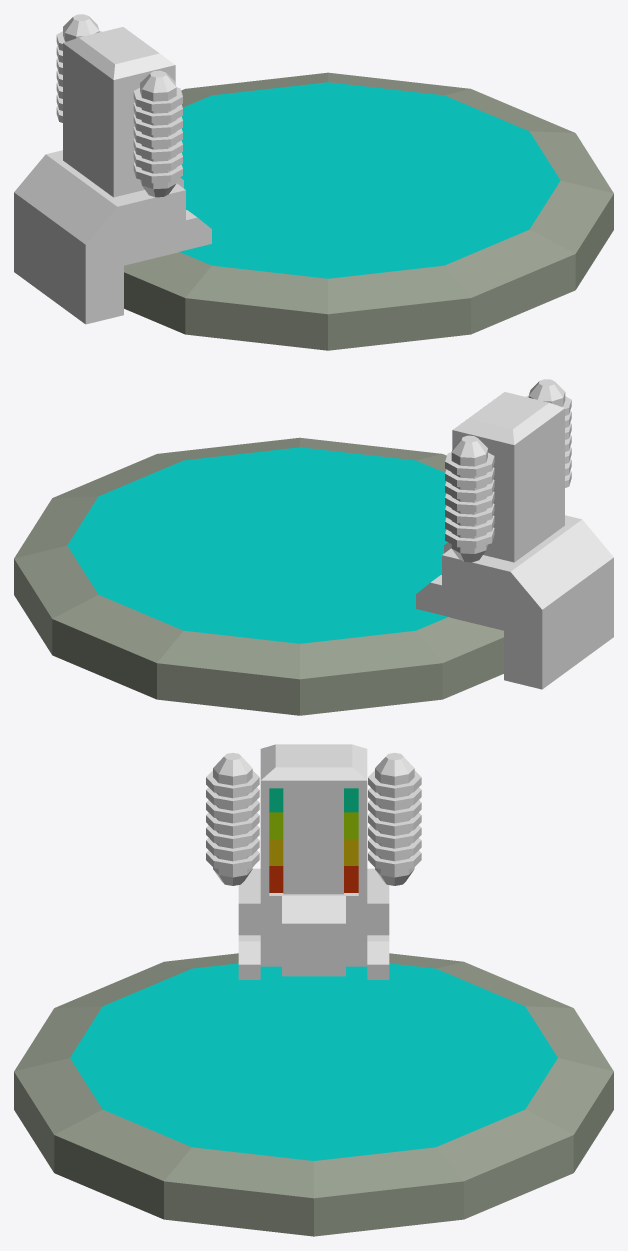
Rendered from teleporter.fbx.
3 views of the same model, one above another, from view 1: azimuth 30°, elevation 25°; view 2: azimuth 150°, elevation 25°; view 3: azimuth 270°, elevation 25° (orthographic). The views are drawn at different scales.
Parts seen in each view (by area): view 1: Cylinder, Cube, Cylinder.001, Cylinder.002; view 2: Cylinder, Cube, Cylinder.002, Cylinder.001; view 3: Cylinder, Cube, Cube.002, Cylinder.001, Cylinder.002, Cube.001.
Part boxes in pixels (bbox=[...]): Cylinder: bbox=[124, 72, 613, 350]; Cube: bbox=[14, 27, 211, 324]; Cylinder.001: bbox=[133, 70, 182, 197]; Cylinder.002: bbox=[56, 14, 101, 122]; Cylinder: bbox=[14, 437, 503, 715]; Cube: bbox=[416, 392, 613, 689]; Cylinder.002: bbox=[445, 435, 494, 562]; Cylinder.001: bbox=[525, 379, 571, 487]; Cylinder: bbox=[14, 953, 613, 1236]; Cube: bbox=[238, 744, 389, 979]; Cube.002: bbox=[283, 788, 343, 894]; Cylinder.001: bbox=[206, 753, 259, 885]; Cylinder.002: bbox=[368, 752, 421, 885]; Cube.001: bbox=[269, 788, 358, 892].
Size of the model in its own units: 212 by 91.03 by 200.
